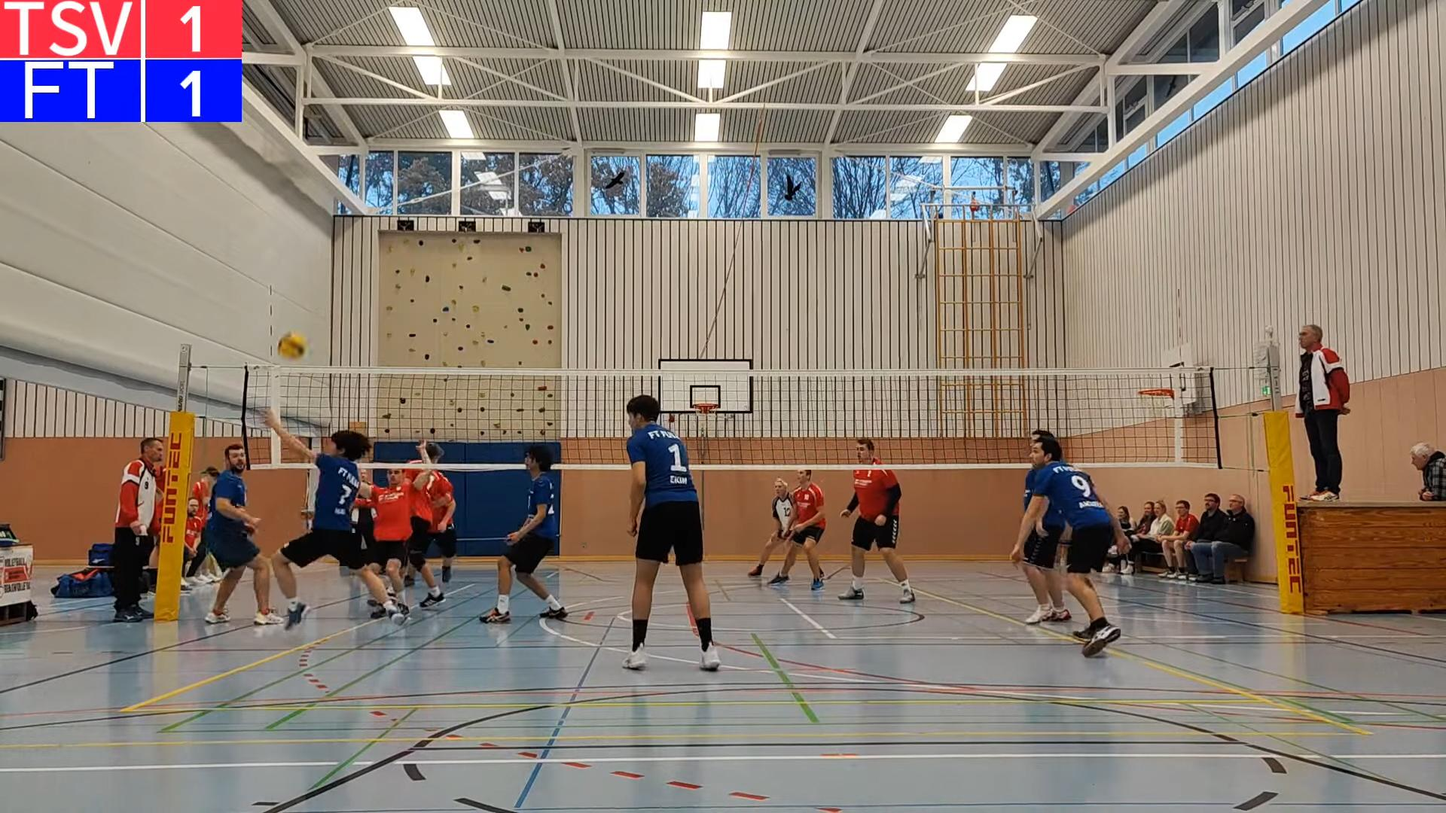Dig: (252, 404, 434, 628)
Player: (624, 396, 719, 670), (1016, 437, 1128, 656), (480, 444, 566, 623), (203, 443, 284, 625), (838, 438, 915, 603), (1011, 506, 1071, 624), (368, 468, 415, 615), (770, 469, 825, 591), (405, 469, 445, 608), (427, 471, 456, 584), (770, 577, 786, 583)
ball: (277, 335, 312, 362)
